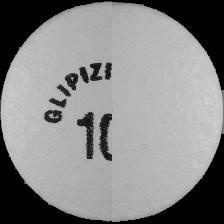53808-0408: (0, 0, 224, 224)
